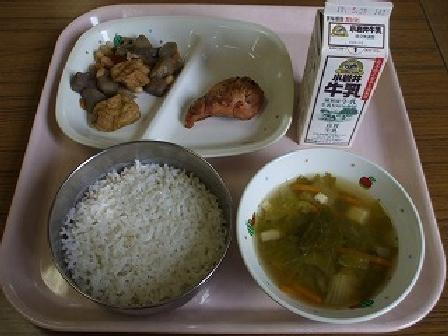Meat: (184, 65, 272, 139)
Milk: (290, 0, 400, 151)
Rice: (58, 150, 232, 309)
Soups: (252, 154, 418, 316)
cooked food meat with vegetables: (68, 31, 182, 128)
